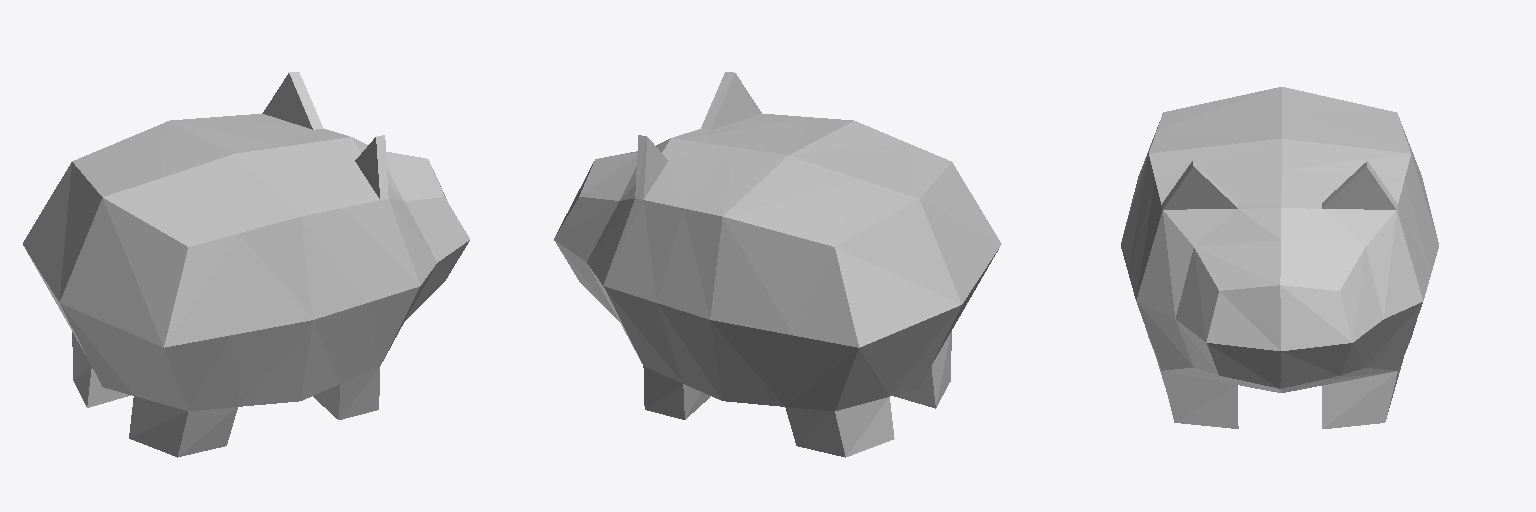
The model's file is piggyBank_mesh 1.obj.
3 views of the same model, side by side, from view 1: azimuth 30°, elevation 25°; view 2: azimuth 150°, elevation 25°; view 3: azimuth 270°, elevation 25° (orthographic).
Parts seen in each view (by area): view 1: piggyBank_mesh; view 2: piggyBank_mesh; view 3: piggyBank_mesh.
Part boxes in pixels (x1,y1,x2,y2): piggyBank_mesh: (23,72,469,457); piggyBank_mesh: (554,72,1001,457); piggyBank_mesh: (1121,87,1438,428).
Size of the model in its own units: 0.2855 by 0.1855 by 0.2019.